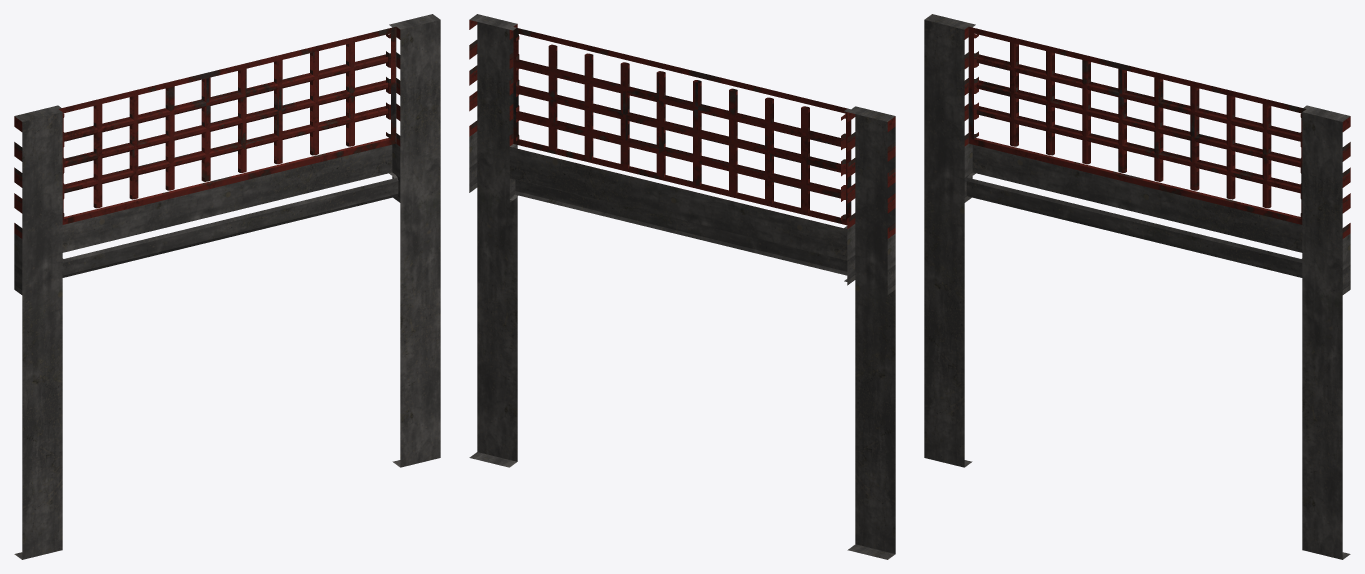
Rendered from Wall_door.fbx.
3 renders of one model, left to right at view 1: azimuth 30°, elevation 25°; view 2: azimuth 150°, elevation 25°; view 3: azimuth 330°, elevation 25°, orthographic.
Parts seen in each view (by area): view 1: Wall_door; view 2: Wall_door; view 3: Wall_door.
Part boxes in pixels (<box>): Wall_door: <box>14,14,440,559</box>; Wall_door: <box>469,14,895,559</box>; Wall_door: <box>924,14,1350,559</box>.
Size of the model in its own units: 919 by 919 by 30.57.
Materials: 1 (1 with a texture image).
